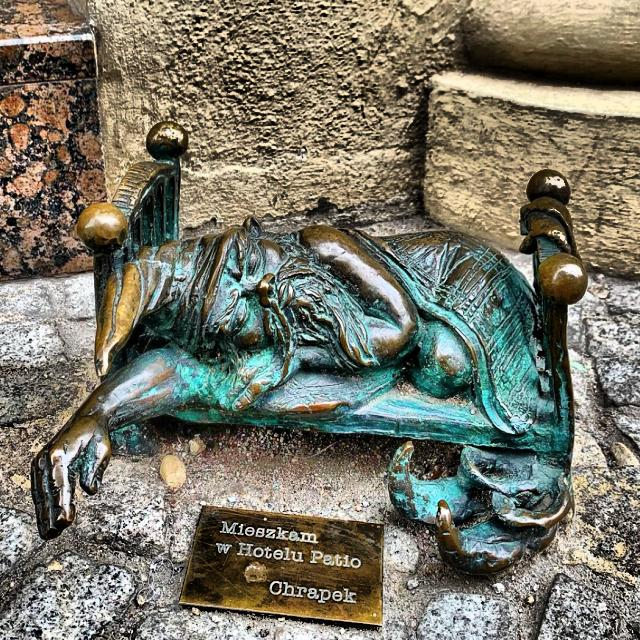Chrapek: (32, 122, 588, 573)
